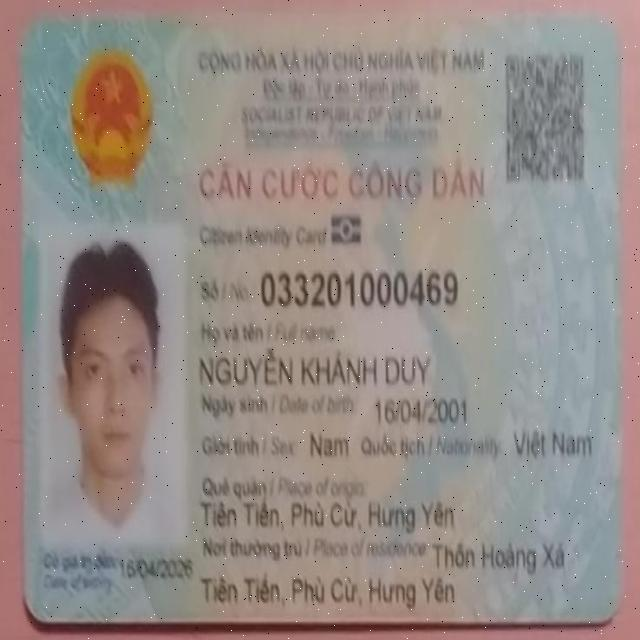current_place: (199, 574, 463, 611), (429, 534, 572, 573)
dob: (375, 395, 472, 428)
expire_date: (119, 554, 197, 584)
gender: (308, 425, 351, 460)
id: (259, 268, 458, 306)
name: (197, 343, 435, 392)
nationality: (506, 424, 598, 465)
origin_place: (200, 494, 458, 535)
